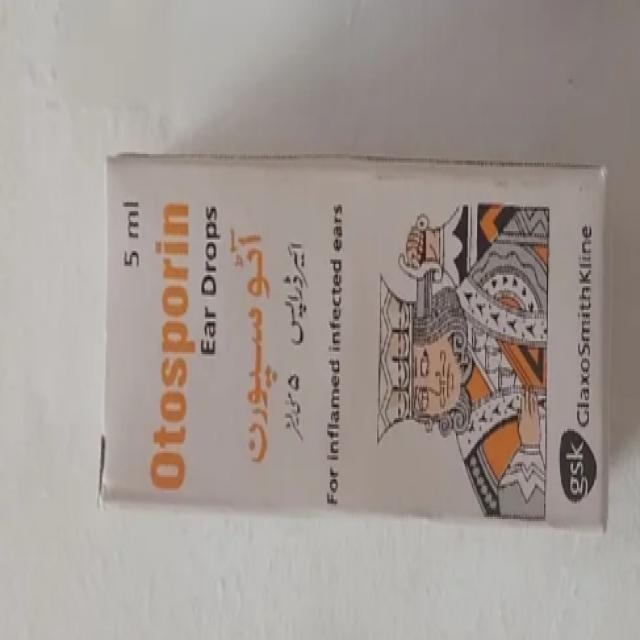drug-name: (148, 191, 198, 491)
